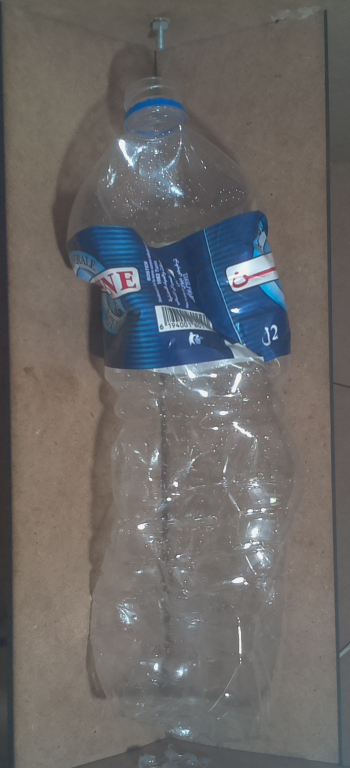Bouteille_2L: (59, 69, 312, 733)
